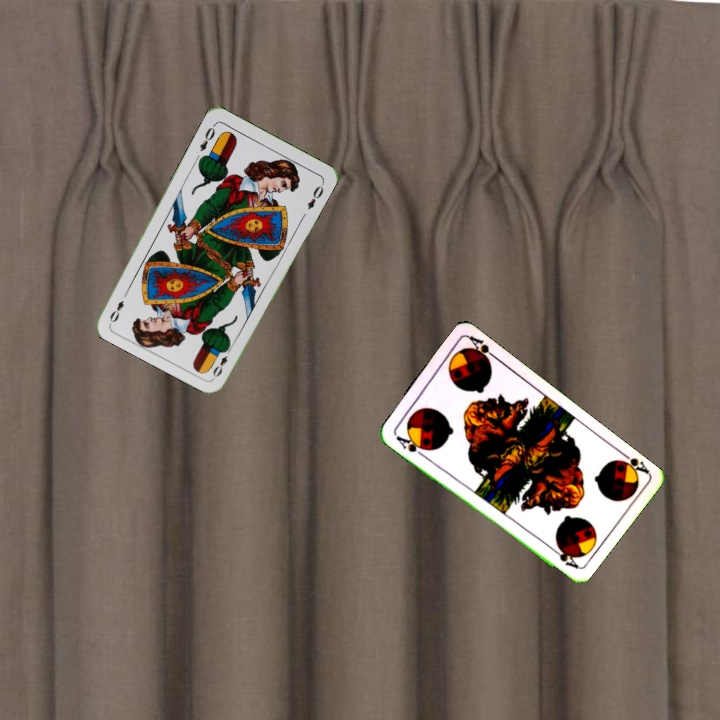EO: (209, 342, 235, 380), (196, 120, 218, 154)
SA: (611, 447, 652, 481), (391, 430, 429, 459)
